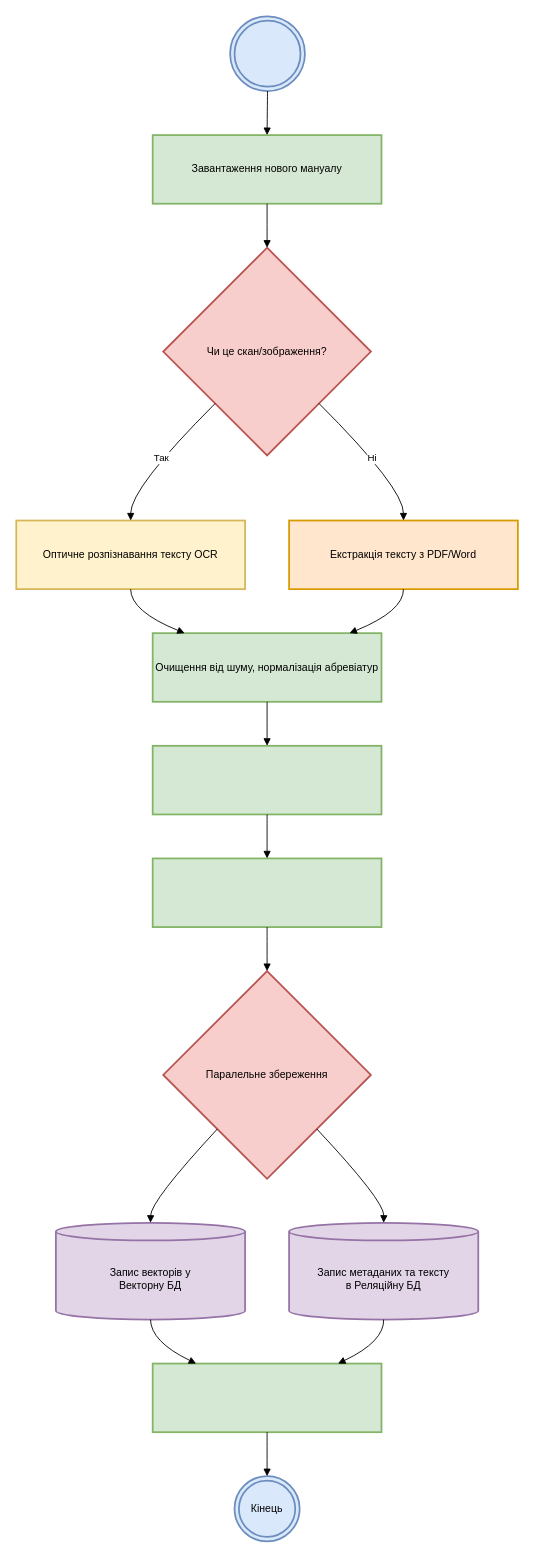
Some shapes in this 533 by 1557 pixel diagram are drawn without their labels. The shapes that lost their labels are listed below. From the top down, each one's centre as x and y in pixels, then its label:
At pixel 267 53: "Початок".
At pixel 266 779: "Розбиття тексту на фрагменти Chunking".
At pixel 266 892: "Генерація ембеддінгів для кожного фрагмента".
At pixel 266 1397: "Синхронізація індексів пошуку".
